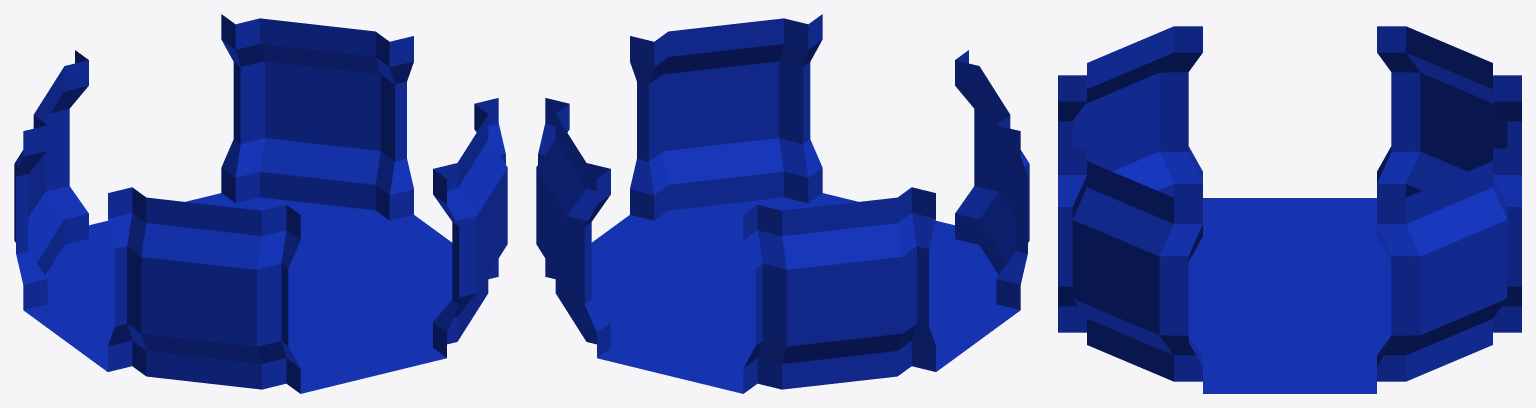
The model's file is TestRoomWithWalls.FBX.
3 renders of one model, left to right at view 1: azimuth 30°, elevation 25°; view 2: azimuth 150°, elevation 25°; view 3: azimuth 270°, elevation 25°, orthographic. The views are drawn at different scales.
Parts seen in each view (by area): view 1: 1x1_Generic_4D; view 2: 1x1_Generic_4D; view 3: 1x1_Generic_4D.
Part boxes in pixels (left/top/right/bottom): 1x1_Generic_4D: left=14, top=14, right=507, bottom=393; 1x1_Generic_4D: left=536, top=14, right=1029, bottom=393; 1x1_Generic_4D: left=1058, top=26, right=1521, bottom=393.
Size of what is drawn, in the model's own units: 800 by 350 by 800.
